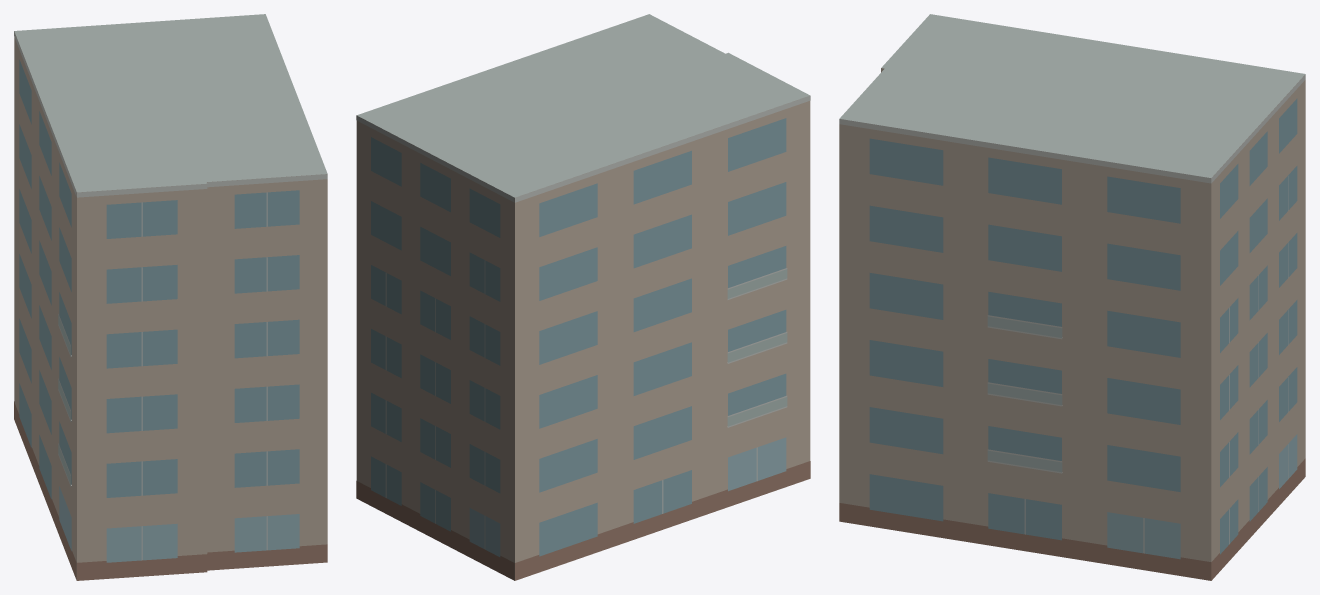
Rendered from survey-upis-32552378.glb.
3 views of the same model, side by side, from view 1: azimuth 30°, elevation 25°; view 2: azimuth 150°, elevation 25°; view 3: azimuth 270°, elevation 25° (orthographic). The views are drawn at different scales.
Parts seen in each view (by area): view 1: survey-upis-32552378.tmp; view 2: survey-upis-32552378.tmp; view 3: survey-upis-32552378.tmp.
Part boxes in pixels (x1=…): survey-upis-32552378.tmp: x1=14, y1=14, x2=327, y2=580; survey-upis-32552378.tmp: x1=356, y1=14, x2=810, y2=580; survey-upis-32552378.tmp: x1=839, y1=14, x2=1305, y2=580.
Bounding box in the file's own units: 16.01 × 18.3 × 19.22.
